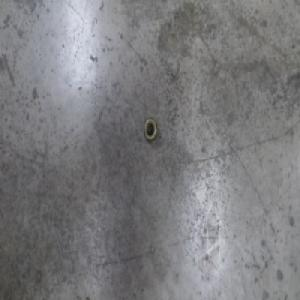Nut: (142, 115, 157, 144)
